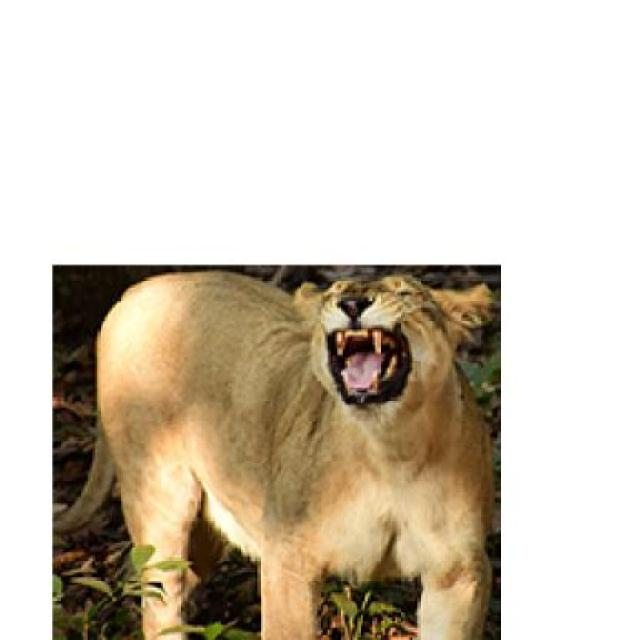Lion: (66, 247, 519, 638)
